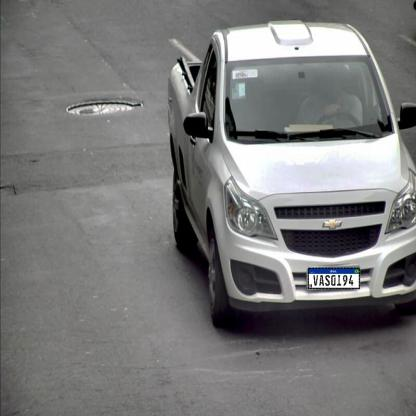PlacaM: (308, 268, 360, 289)
